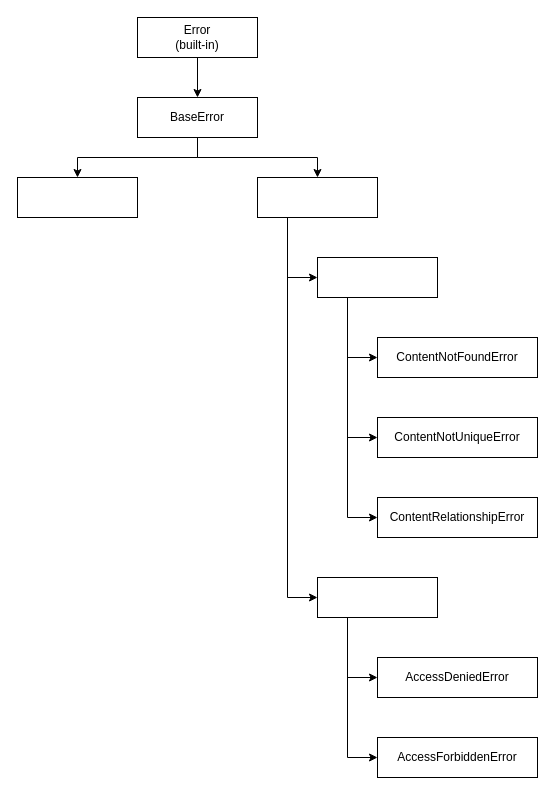
Image size: 555x795. Some labels were removed from this diagram. The box of each missing label's shape, as (x1, y1, x2, y2) in pixels:
AccessError: (316, 576, 438, 618)
ContentError: (316, 256, 438, 298)
SystemError: (16, 176, 138, 218)
UserError: (256, 176, 378, 218)
